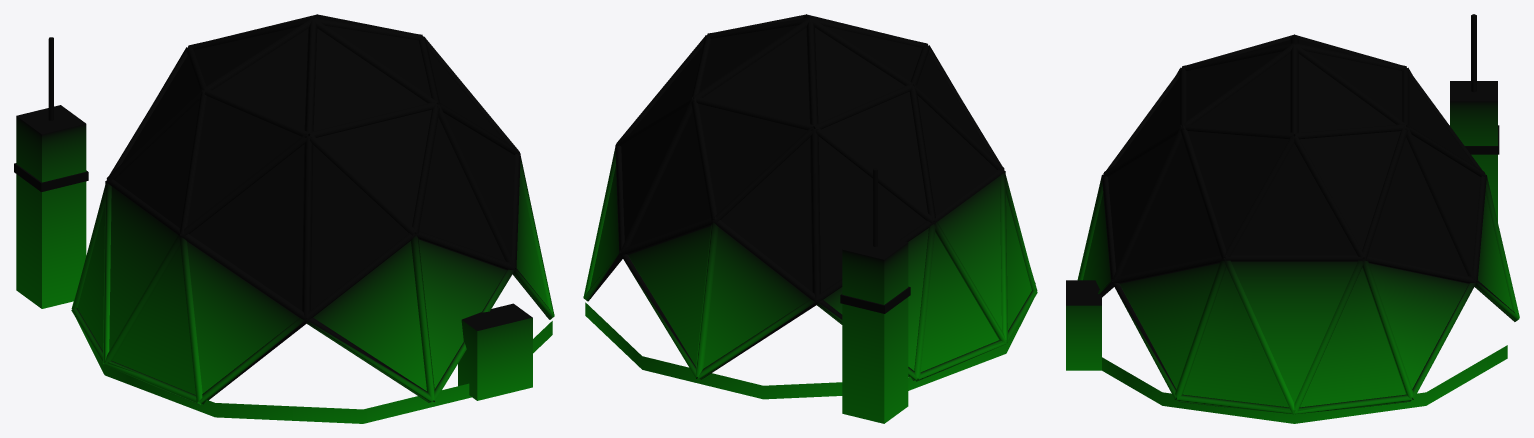
The model's file is geodesicdome.glb.
3 views of the same model, side by side, from view 1: azimuth 30°, elevation 25°; view 2: azimuth 150°, elevation 25°; view 3: azimuth 270°, elevation 25° (orthographic). The views are drawn at different scales.
Parts seen in each view (by area): view 1: lod0; view 2: lod0; view 3: lod0.
Boxes of the visible parts, box(x1,y1,x2,y2) form: lod0: box(14, 14, 554, 423); lod0: box(583, 14, 1037, 423); lod0: box(1066, 14, 1519, 423).
Size of what is drawn, in the model's own units: 15.07 by 10.53 by 15.17.
